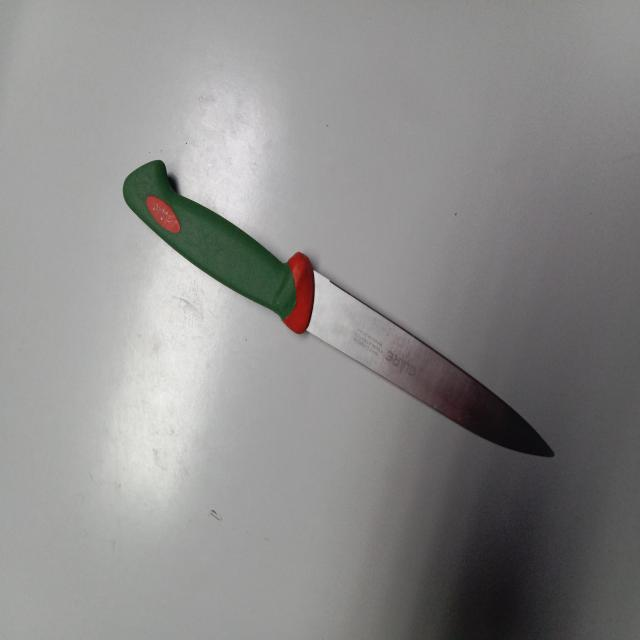Knife: (122, 159, 555, 457)
